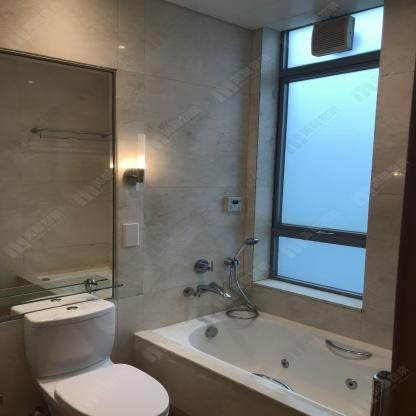Bathtub: (133, 306, 392, 416)
Exhaust Fan: (310, 15, 356, 58)
Toilet: (22, 298, 171, 416)
